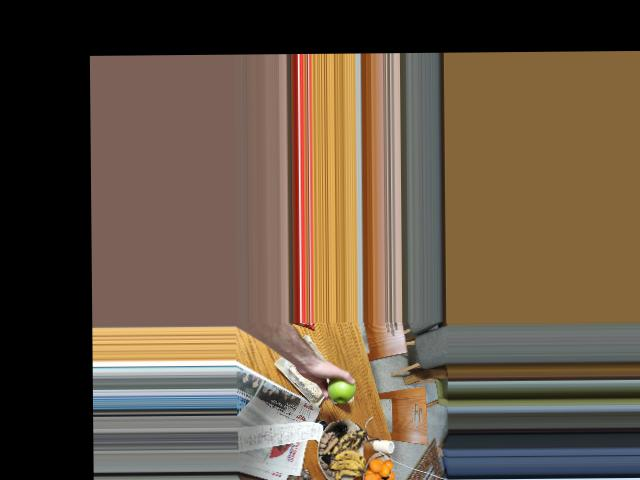apple: (324, 372, 358, 403)
